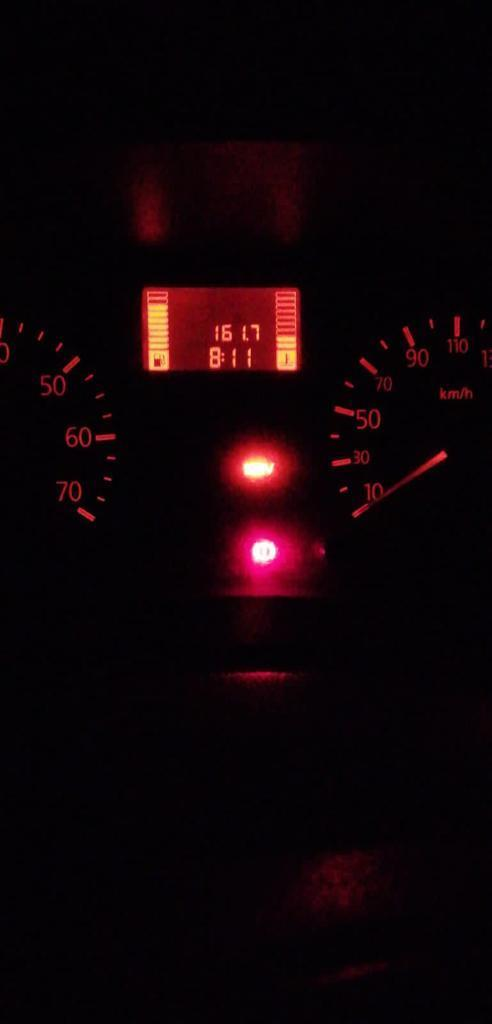-: (245, 336, 248, 341)
1: (230, 345, 237, 368), (246, 345, 252, 368), (213, 322, 219, 341), (240, 322, 245, 343)
6: (220, 322, 231, 341)
7: (250, 322, 260, 340)
8: (208, 344, 220, 368)
X: (220, 350, 224, 363)
odometer: (139, 284, 304, 374)
